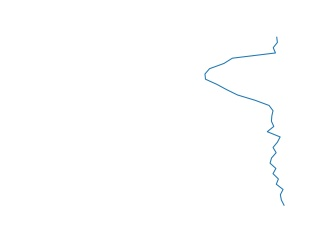distalBar: (199, 37, 290, 205)
